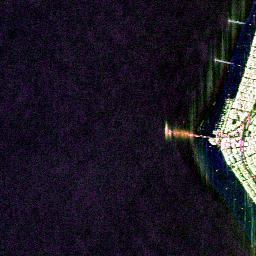Ship: (162, 121, 169, 139)
